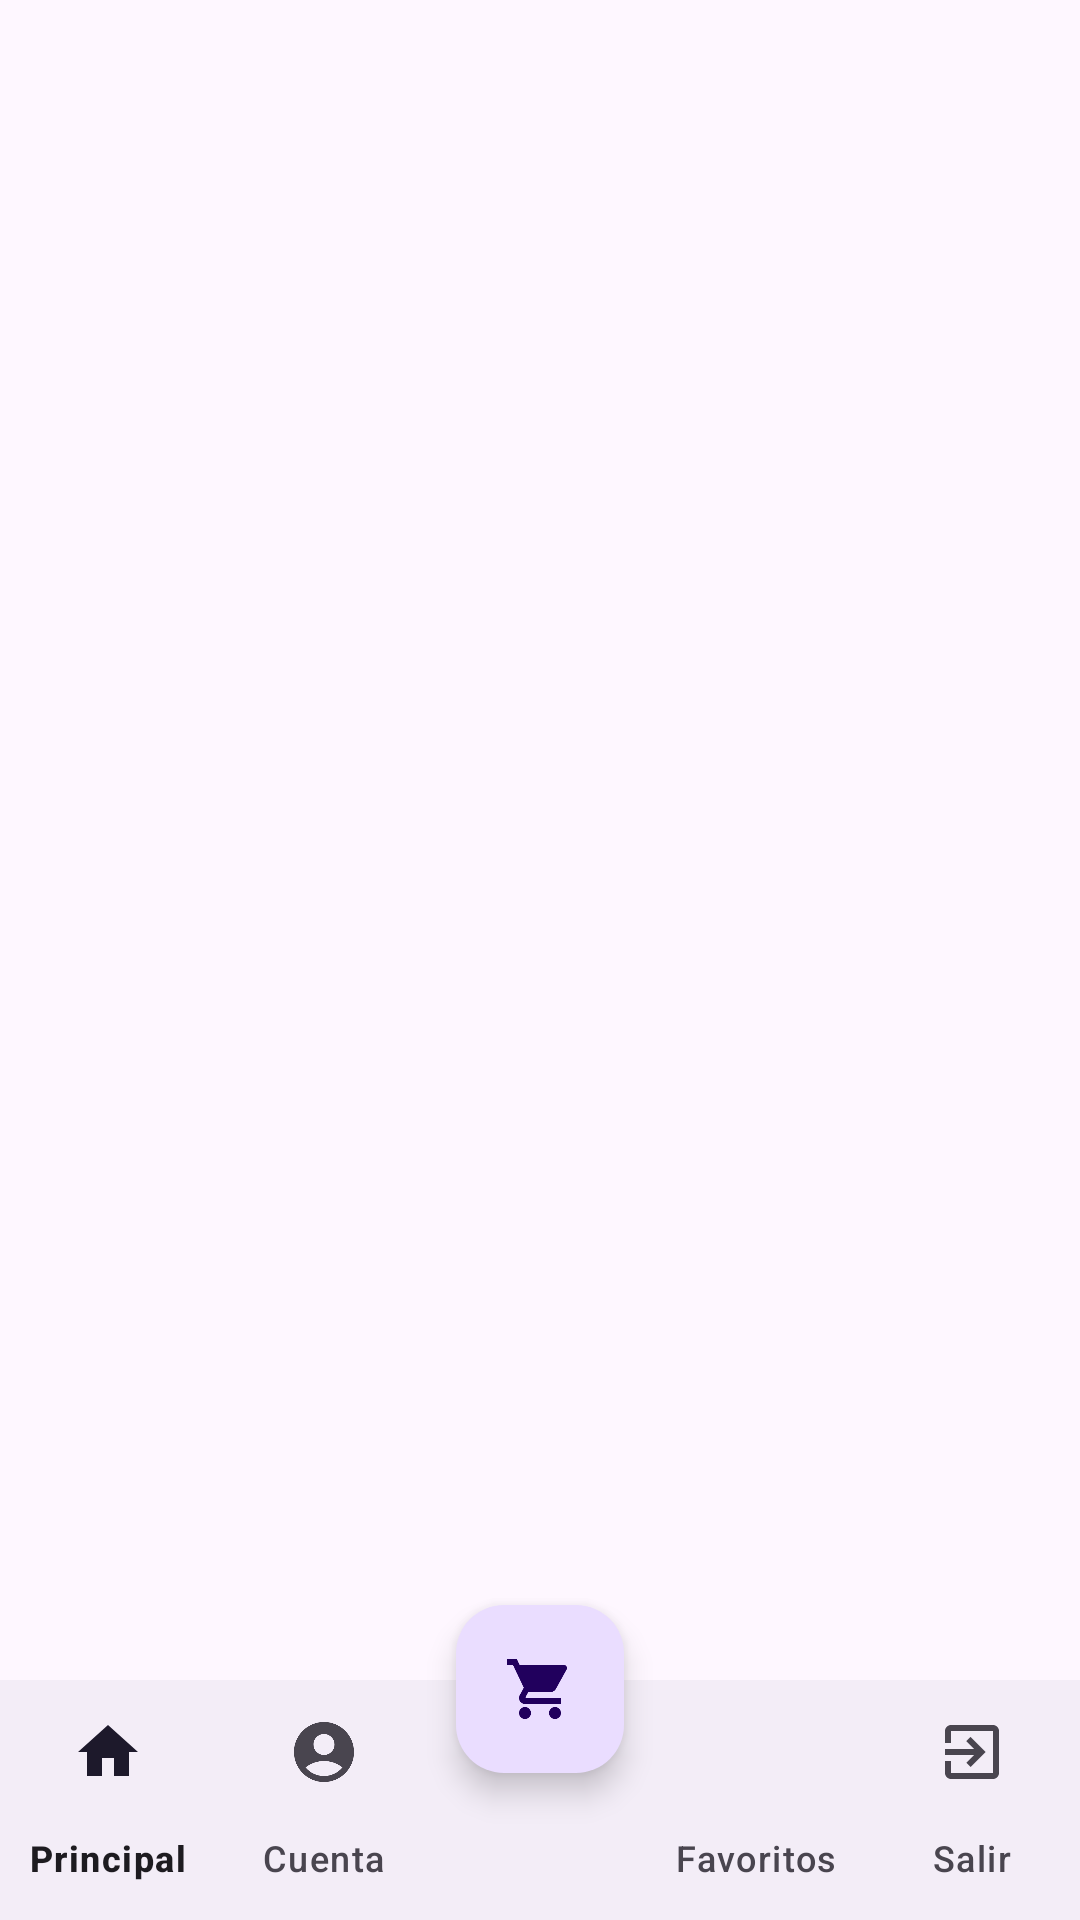

Point at icon controls on the screen. Image size 1080px×1920px, points as point (x, y).
shopping cart: point (540, 1695)
